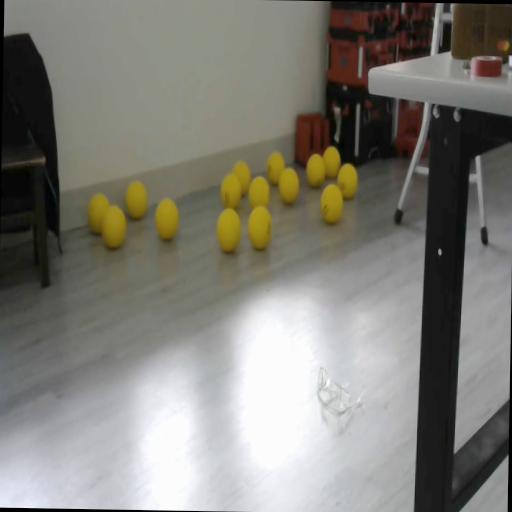FUEL: (215, 206, 243, 254), (100, 204, 127, 250), (247, 204, 273, 250), (154, 197, 180, 241), (320, 184, 344, 224), (124, 180, 148, 219), (219, 172, 242, 210), (278, 166, 300, 204), (248, 174, 270, 210), (336, 162, 358, 198), (265, 150, 286, 186), (306, 153, 326, 188), (322, 146, 341, 178)
